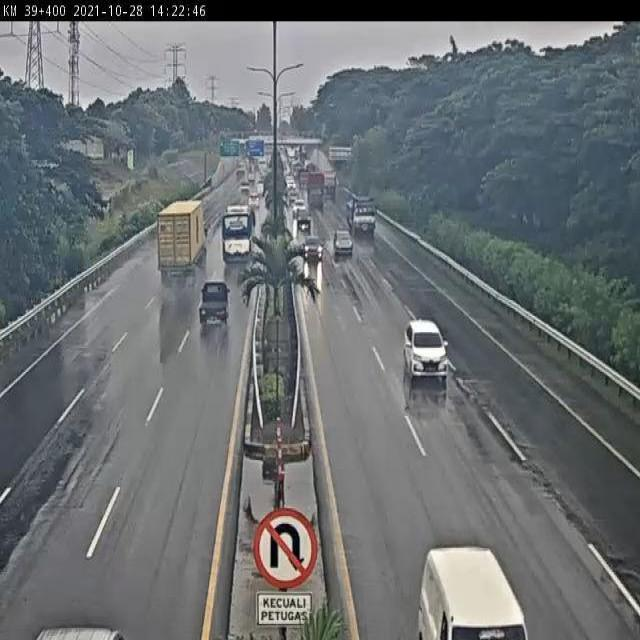bus-l-: (221, 201, 258, 263)
car: (199, 278, 233, 326)
truck-xl-: (159, 198, 209, 278)
